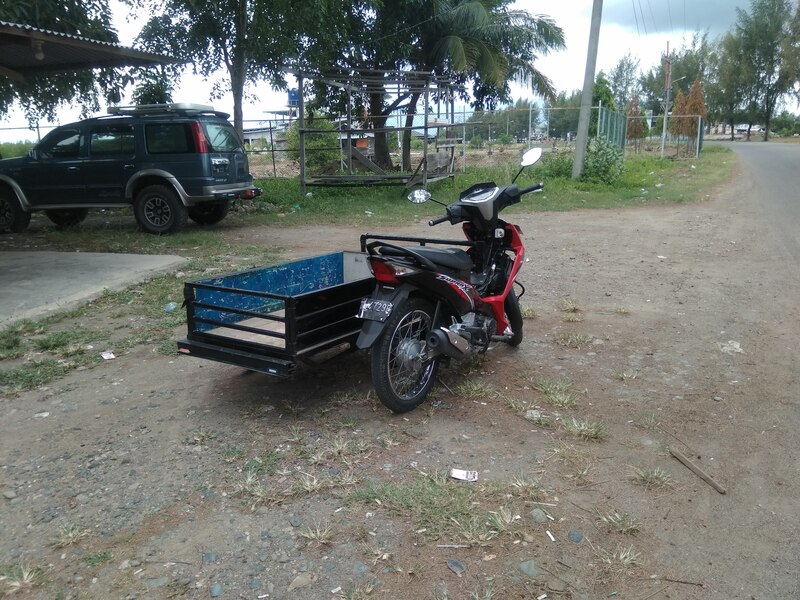becak barang: (169, 144, 549, 416)
